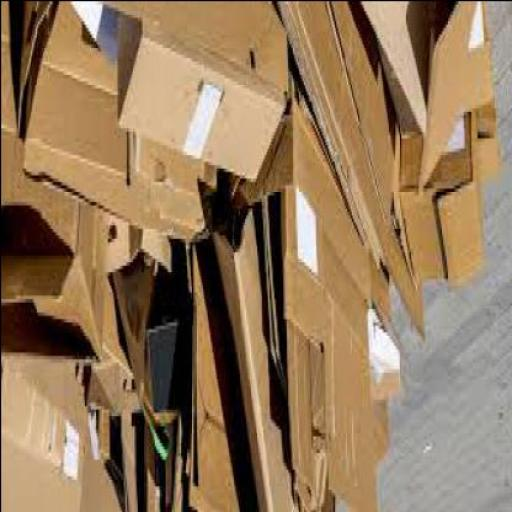cardboard: (14, 3, 286, 198), (275, 3, 422, 345), (225, 74, 388, 358), (0, 4, 171, 274), (20, 3, 202, 248), (113, 23, 281, 187), (207, 211, 295, 511), (1, 139, 101, 368), (186, 241, 257, 511), (374, 4, 492, 144), (2, 359, 104, 511), (397, 113, 483, 288), (110, 261, 178, 461), (322, 244, 373, 510), (413, 3, 473, 198), (357, 3, 441, 137), (309, 342, 386, 462), (279, 187, 324, 355), (39, 3, 116, 100), (256, 201, 284, 405), (141, 314, 188, 422), (93, 274, 133, 382), (72, 365, 108, 468), (368, 308, 395, 408), (159, 418, 187, 511), (95, 362, 139, 418), (473, 108, 498, 184), (102, 465, 124, 511)
